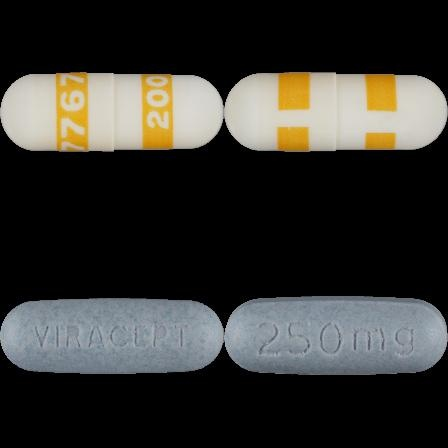55289-475: (0, 0, 224, 224)
